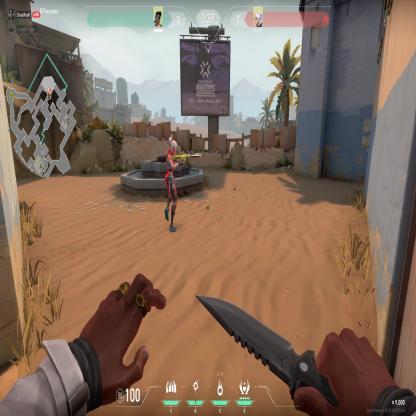enemy: (163, 138, 181, 235)
